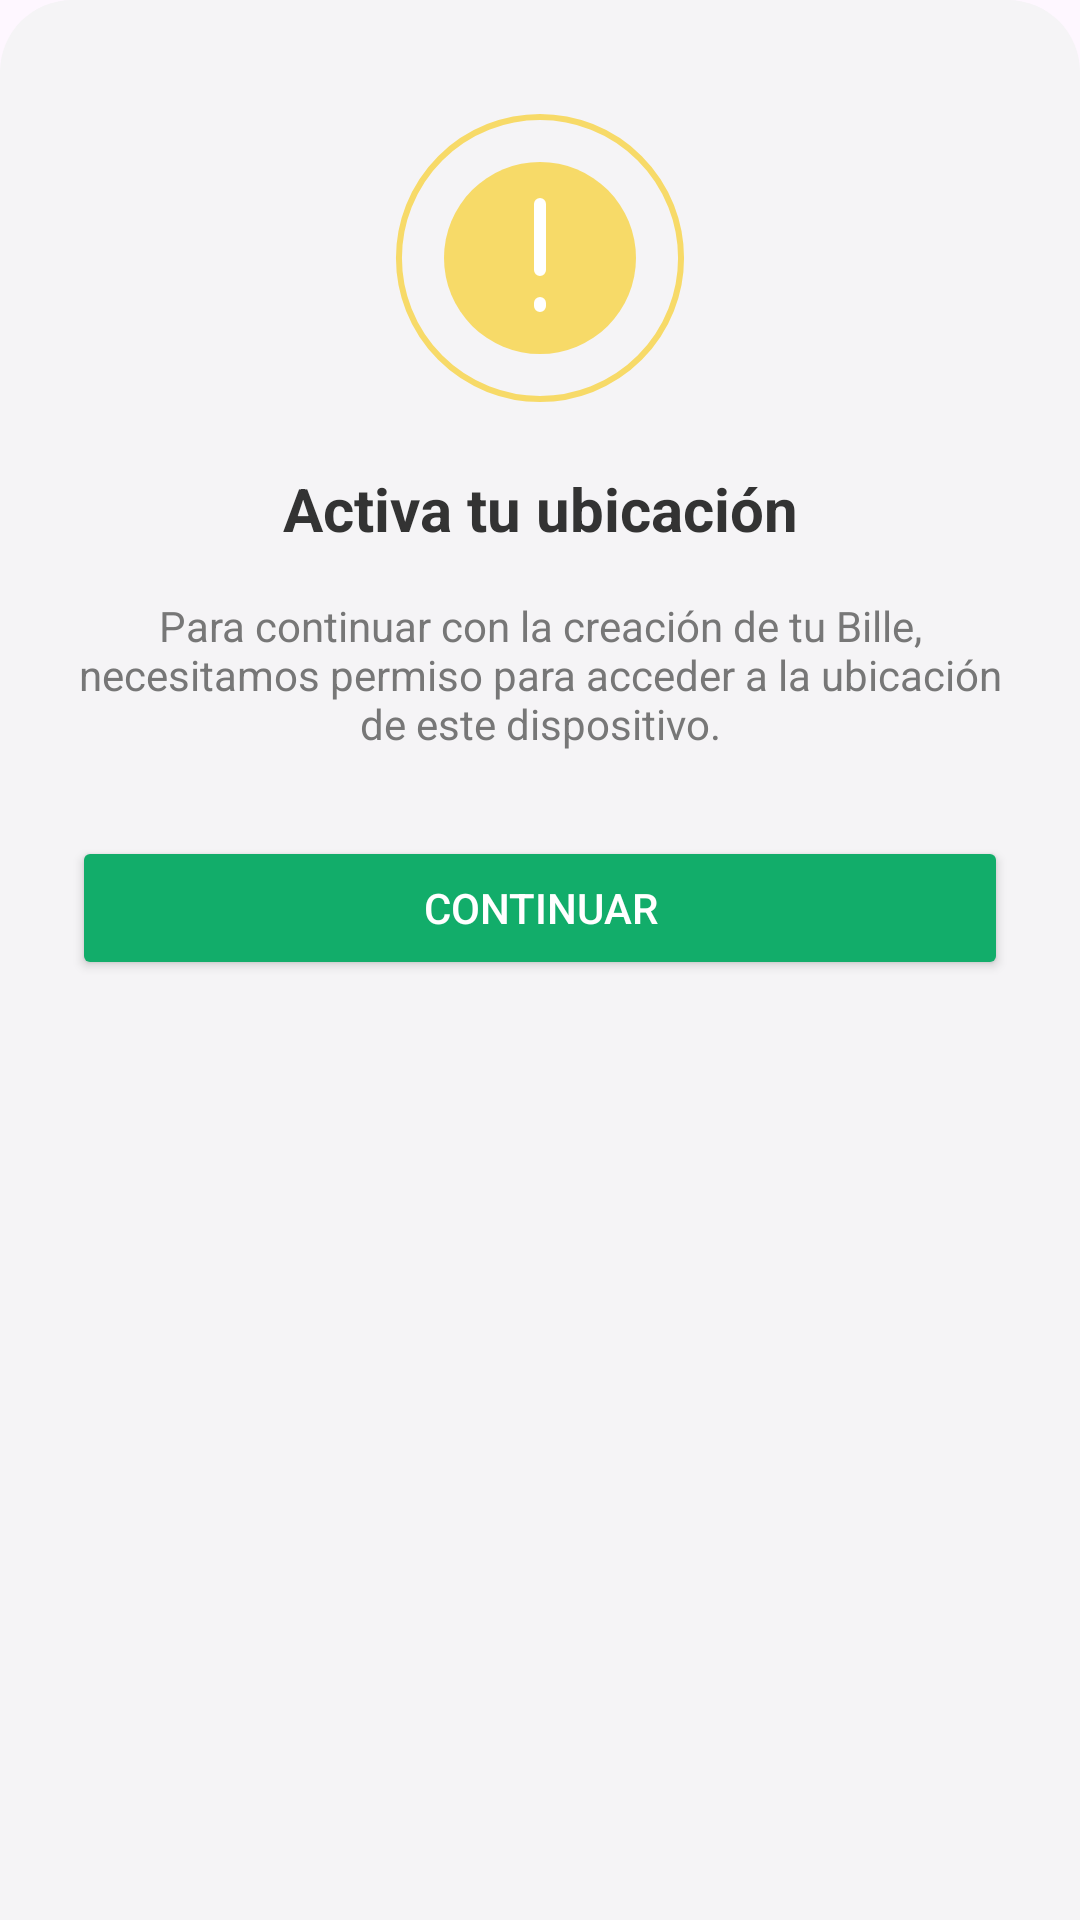

Where to tap for icons on this 1080*1920 app screen, as [x,y]:
location warning: [540,258]
